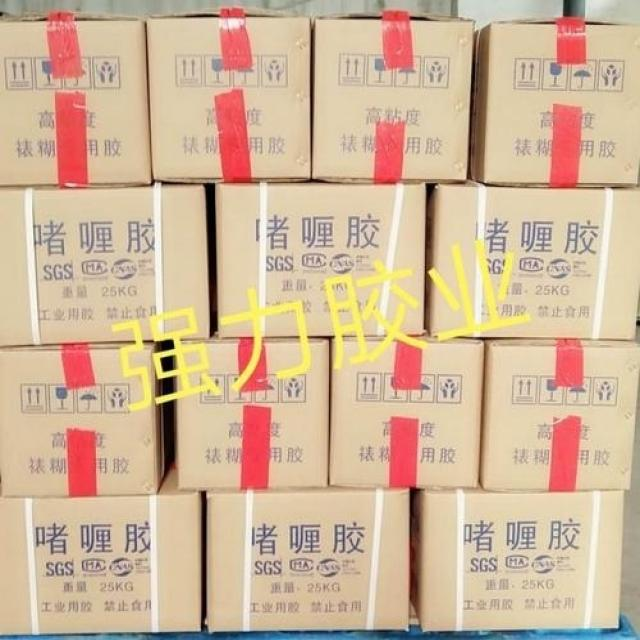box: (0, 182, 209, 349), (0, 462, 201, 635), (426, 178, 640, 340), (214, 183, 426, 340), (411, 490, 623, 631), (206, 487, 410, 631), (470, 18, 640, 188), (146, 8, 311, 183), (314, 11, 475, 184), (0, 341, 174, 495), (480, 341, 640, 489), (330, 337, 485, 489), (173, 340, 330, 490)
